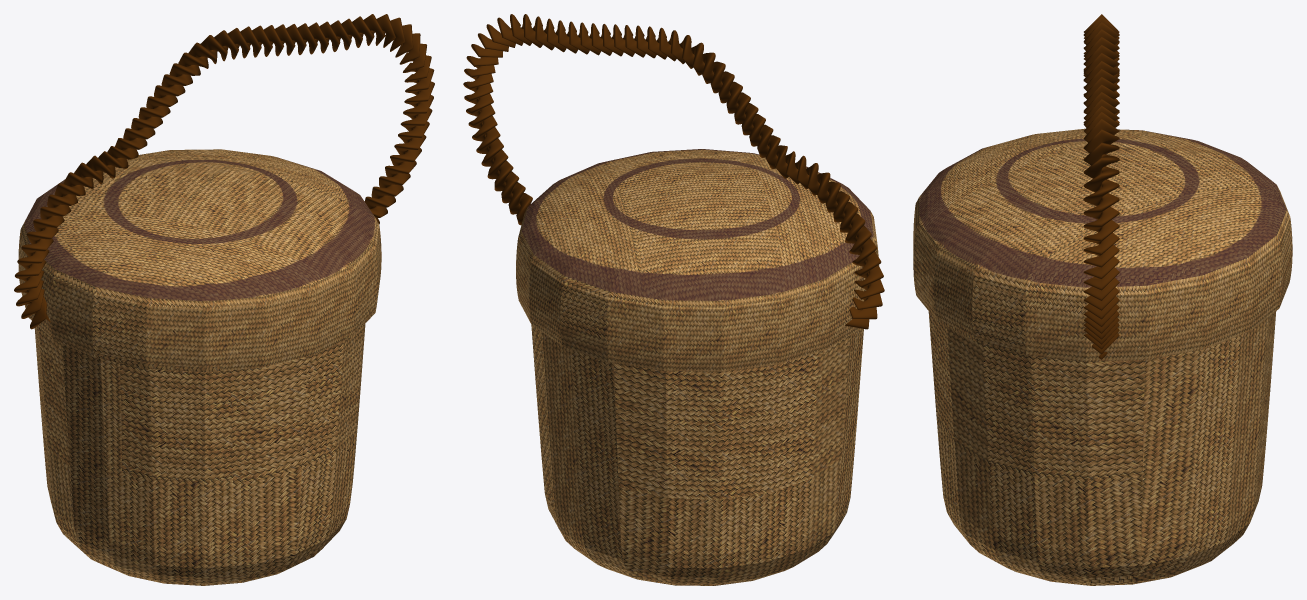
Rendered from pitiak.glb.
The picture shows the model from 3 angles, left to right: view 1: azimuth 30°, elevation 25°; view 2: azimuth 150°, elevation 25°; view 3: azimuth 270°, elevation 25°; orthographic projection. The views are drawn at different scales.
Parts seen in each view (by area): view 1: body, header, BezierCircle; view 2: body, header, BezierCircle; view 3: body, header, BezierCircle.
Part boxes in pixels (box(x1,y1,x2,y2)): body: box(34, 324, 365, 585); header: box(18, 149, 381, 372); BezierCircle: box(14, 14, 434, 329); body: box(531, 325, 863, 585); header: box(516, 149, 879, 371); BezierCircle: box(463, 14, 884, 329); body: box(928, 311, 1276, 585); header: box(913, 128, 1292, 361); BezierCircle: box(1083, 14, 1119, 359).
Bounding box in the file's own units: 0.9469 × 1.1 × 0.7052.
Materials: 3 (2 with a texture image).
